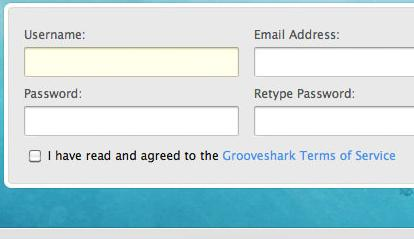checkbox: (28, 148, 41, 163)
checkbox_with_label: (25, 145, 397, 165)
field: (22, 104, 240, 137), (23, 45, 240, 78)
field_with_label: (20, 27, 242, 80), (20, 88, 242, 139)
